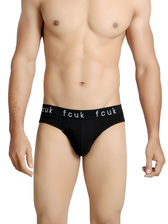clothoes: (37, 100, 130, 159)
